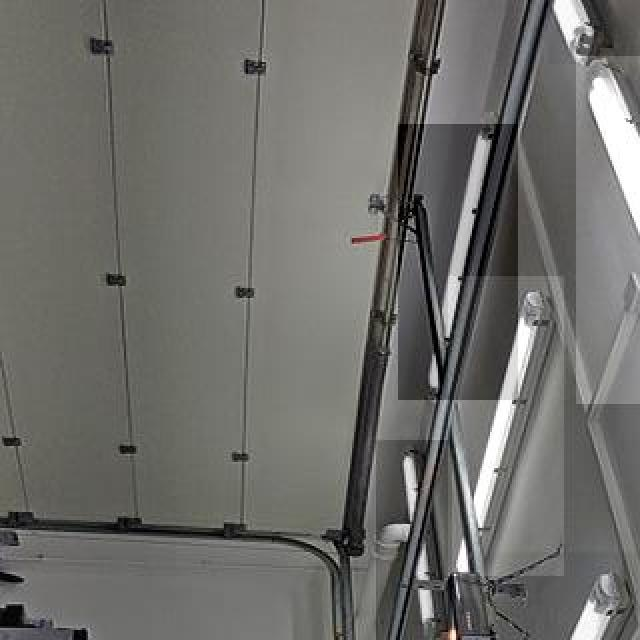fluorescent tube: (443, 273, 561, 585), (409, 105, 524, 407), (594, 62, 640, 400), (480, 556, 640, 640), (386, 442, 448, 640), (520, 0, 638, 68)
